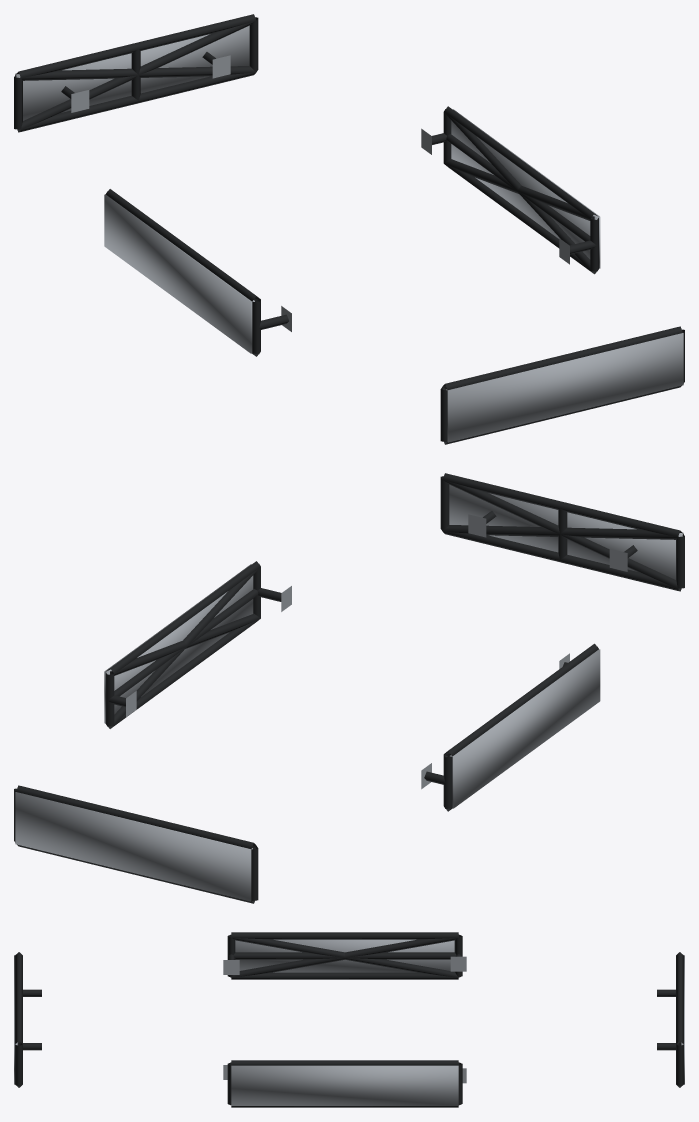
Rendered from hayase_silex_protecao.glb.
3 views of the same model, one above another, from view 1: azimuth 30°, elevation 25°; view 2: azimuth 150°, elevation 25°; view 3: azimuth 270°, elevation 25° (orthographic). The views are drawn at different scales.
Parts seen in each view (by area): view 1: Protection_front_Level3_Details, Protection_left_Level3_Details, Protection_rear_Level1_Details, Protection_rear_Level3_Details, Protection_right_Level1_Details, Protection_rear_Level2_Details, Protection_right_Level2_Details, Protection_right_Level3_Details, Protection_front_Level1_Details, Protection_left_Level1_Details; view 2: Protection_rear_Level3_Details, Protection_left_Level3_Details, Protection_front_Level1_Details, Protection_front_Level3_Details, Protection_right_Level1_Details, Protection_front_Level2_Details, Protection_right_Level2_Details, Protection_right_Level3_Details, Protection_rear_Level1_Details, Protection_left_Level1_Details; view 3: Protection_right_Level3_Details, Protection_left_Level2_Details, Protection_left_Level1_Details, Protection_left_Level3_Details, Protection_right_Level1_Details, Protection_rear_Level1_Details, Protection_front_Level1_Details.
Part boxes in pixels (bbox=[...]): Protection_front_Level3_Details: bbox=[446, 333, 683, 442]; Protection_left_Level3_Details: bbox=[104, 194, 254, 353]; Protection_rear_Level1_Details: bbox=[14, 14, 258, 132]; Protection_rear_Level3_Details: bbox=[15, 25, 249, 120]; Protection_right_Level1_Details: bbox=[421, 106, 598, 274]; Protection_rear_Level2_Details: bbox=[16, 21, 255, 131]; Protection_right_Level2_Details: bbox=[444, 113, 598, 273]; Protection_right_Level3_Details: bbox=[451, 109, 600, 268]; Protection_front_Level1_Details: bbox=[440, 326, 684, 444]; Protection_left_Level1_Details: bbox=[105, 189, 291, 356]; Protection_rear_Level3_Details: bbox=[15, 792, 252, 901]; Protection_left_Level3_Details: bbox=[449, 649, 600, 808]; Protection_front_Level1_Details: bbox=[440, 473, 684, 591]; Protection_front_Level3_Details: bbox=[449, 484, 683, 579]; Protection_right_Level1_Details: bbox=[105, 561, 291, 728]; Protection_front_Level2_Details: bbox=[443, 480, 682, 590]; Protection_right_Level2_Details: bbox=[106, 567, 260, 728]; Protection_right_Level3_Details: bbox=[104, 564, 253, 723]; Protection_rear_Level1_Details: bbox=[14, 785, 258, 903]; Protection_left_Level1_Details: bbox=[421, 643, 598, 811]; Protection_right_Level3_Details: bbox=[231, 1065, 458, 1105]; Protection_left_Level2_Details: bbox=[231, 936, 458, 977]; Protection_left_Level1_Details: bbox=[223, 932, 466, 979]; Protection_left_Level3_Details: bbox=[235, 939, 454, 972]; Protection_right_Level1_Details: bbox=[223, 1060, 466, 1107]; Protection_rear_Level1_Details: bbox=[657, 952, 683, 1087]; Protection_front_Level1_Details: bbox=[15, 952, 41, 1087].
Bounding box in the file's own units: 2.12 × 0.354 × 4.55.
Materials: 1 (1 with a texture image).
